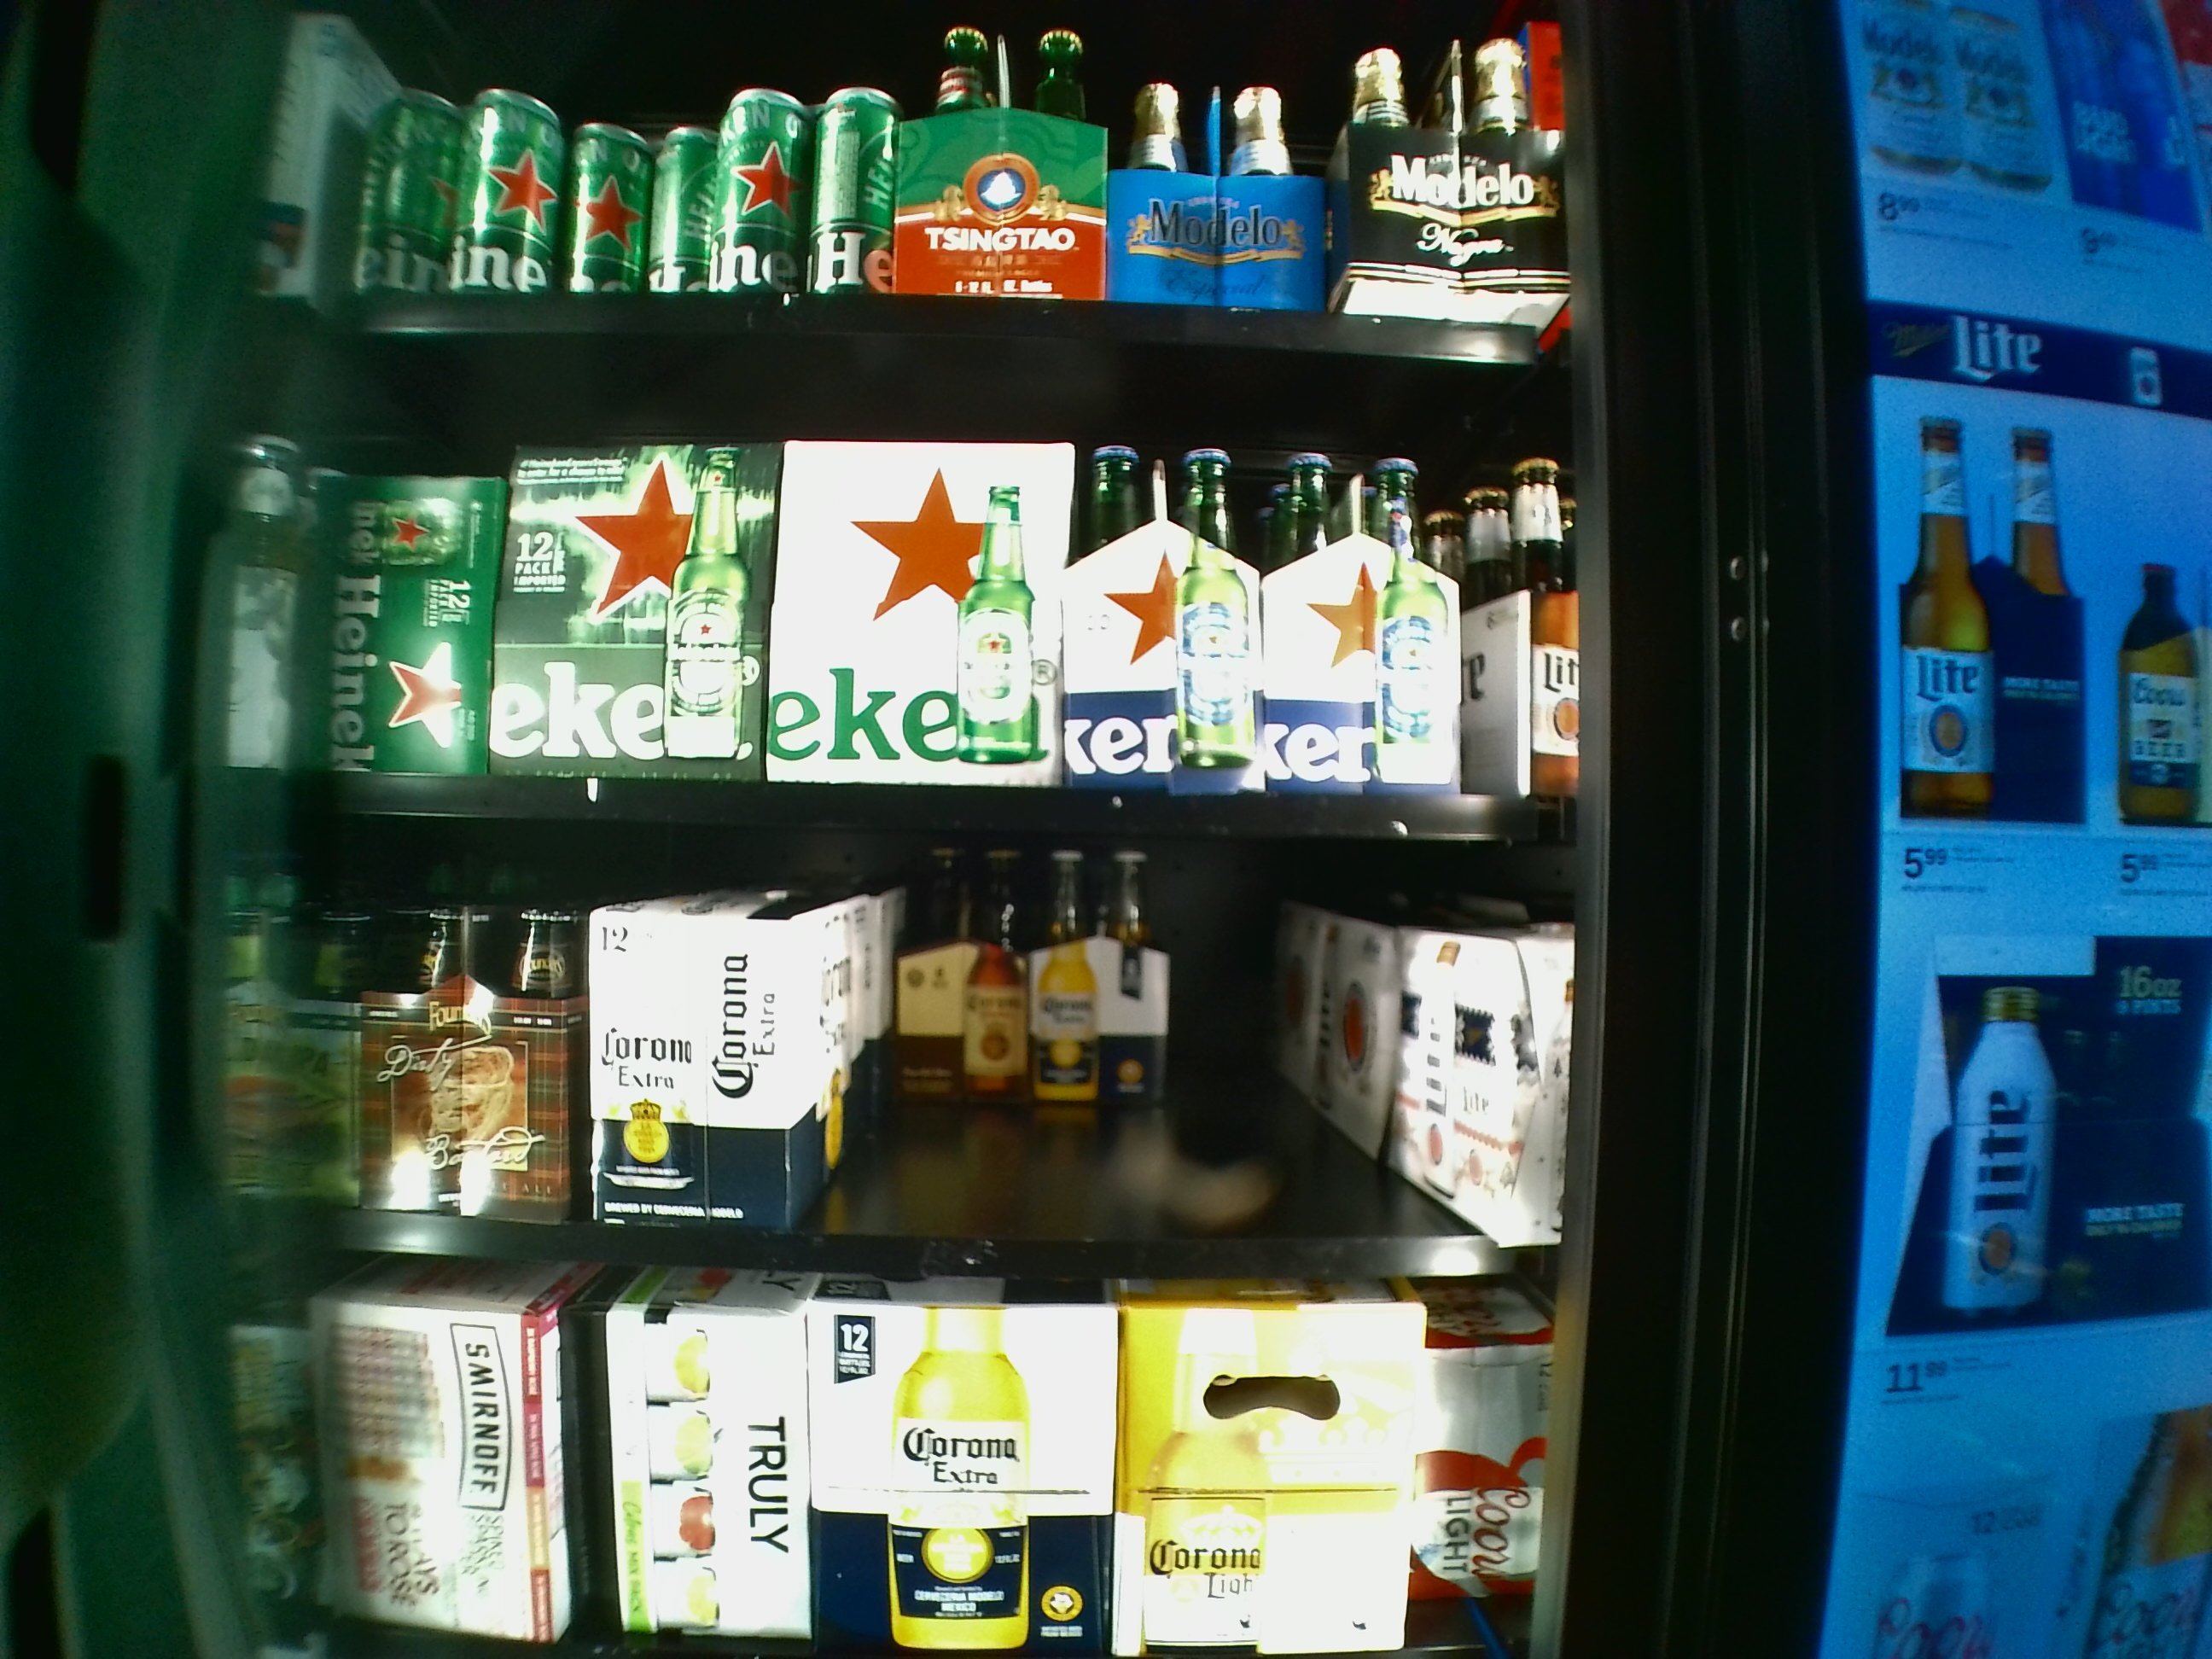shelf: (233, 345, 1576, 829), (235, 838, 1566, 1276)
